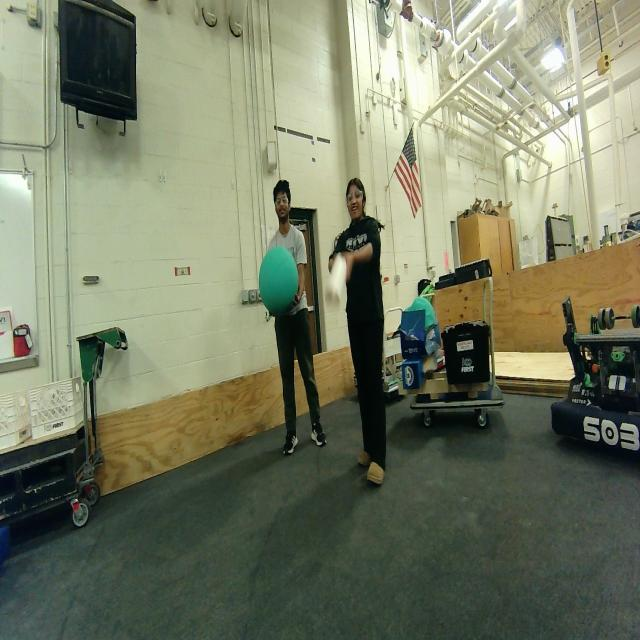algae: (258, 246, 300, 316)
coral: (326, 253, 347, 307)
